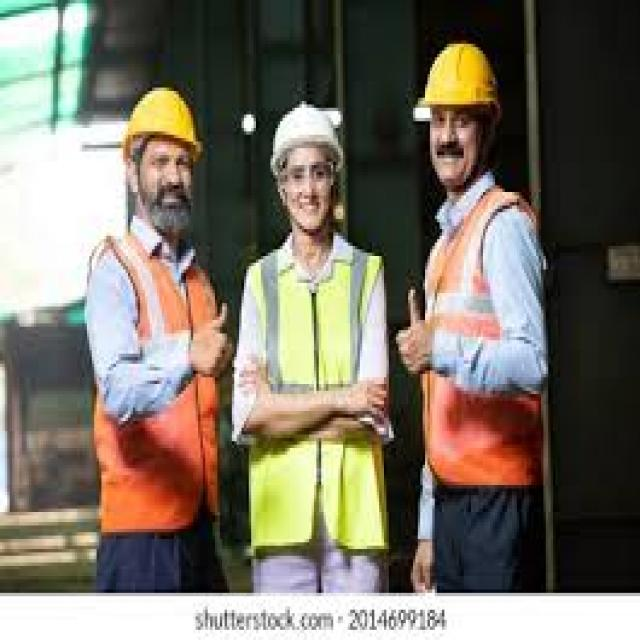Reflective-Jacket: (408, 172, 553, 488), (85, 222, 222, 542), (234, 229, 394, 502)
Safety-Helmet: (406, 34, 512, 131), (116, 81, 208, 162), (266, 94, 352, 175)
